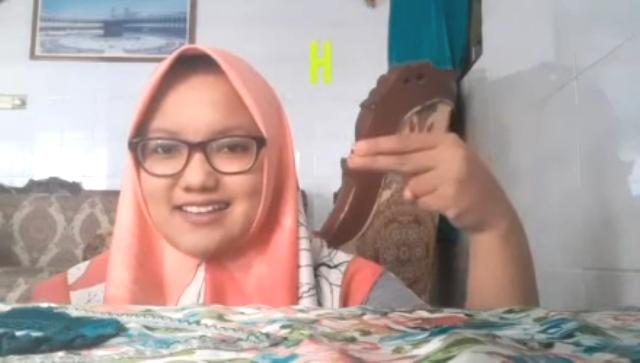H: (346, 130, 509, 234)
